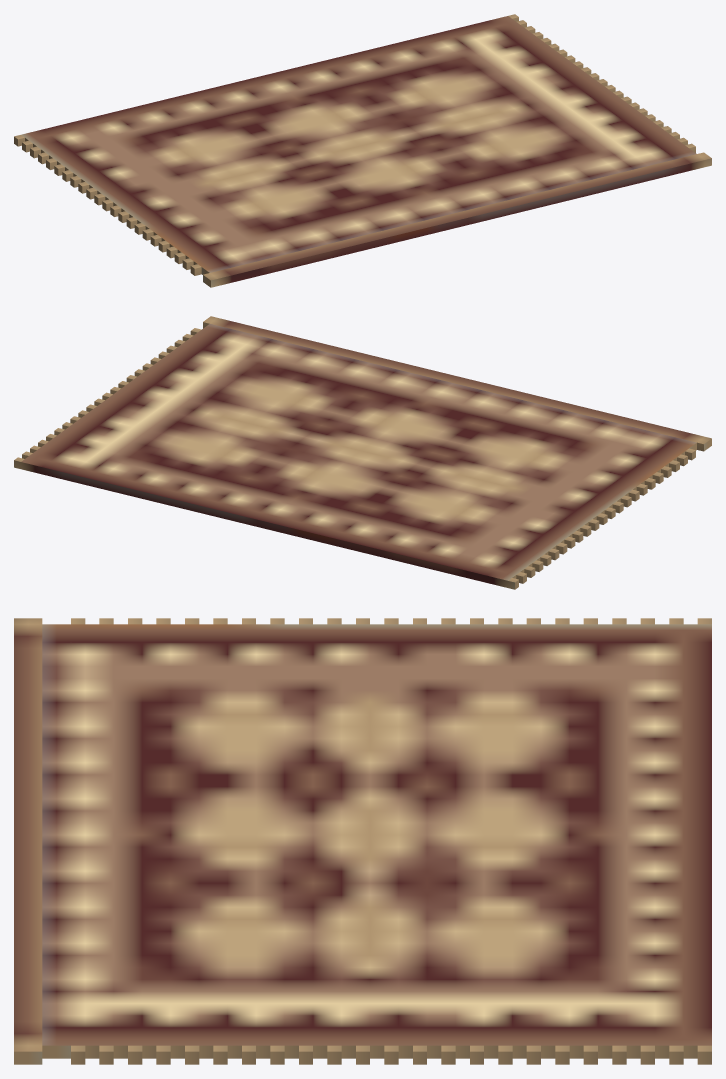
File: BrownCarpet_00.fbx
The picture shows the model from 3 angles, top to bottom: view 1: azimuth 30°, elevation 25°; view 2: azimuth 150°, elevation 25°; view 3: azimuth 270°, elevation 25°; orthographic projection. The views are drawn at different scales.
Visible parts, largest first — view 1: BrownCarpet_00; view 2: BrownCarpet_00; view 3: BrownCarpet_00.
Part boxes in pixels (x1,y1,x2,y2): BrownCarpet_00: (14, 14, 711, 287); BrownCarpet_00: (14, 316, 711, 589); BrownCarpet_00: (14, 618, 711, 1064).
Size of the model in its own units: 360 by 245 by 5.
Materials: 1 (1 with a texture image).
